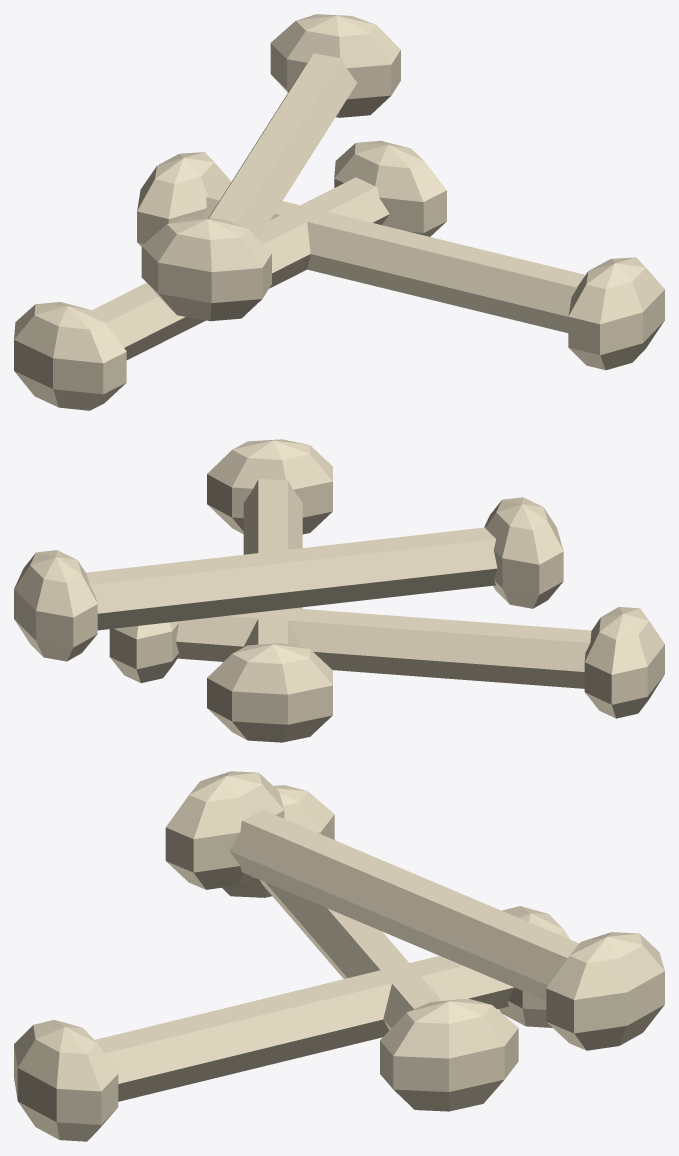
File: bones_whole.glb
3 views of the same model, one above another, from view 1: azimuth 30°, elevation 25°; view 2: azimuth 150°, elevation 25°; view 3: azimuth 270°, elevation 25° (orthographic). The views are drawn at different scales.
Visible parts, largest first — view 1: bones_whole_0; view 2: bones_whole_0; view 3: bones_whole_0.
Boxes of the visible parts, x1=… form: bones_whole_0: x1=14, y1=14, x2=664, y2=410; bones_whole_0: x1=14, y1=439, x2=664, y2=742; bones_whole_0: x1=14, y1=771, x2=664, y2=1141.
Bounding box in the file's own units: 0.2274 × 0.068 × 0.2178.
